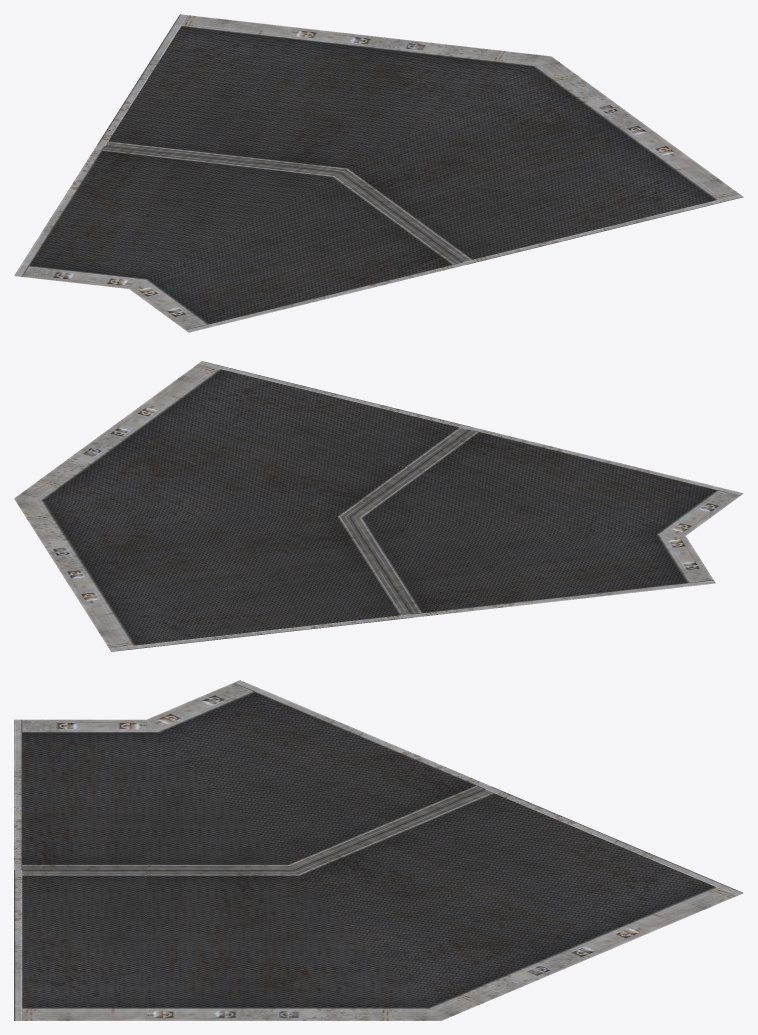
The model's file is Floor_A_5mts_06.fbx.
3 renders of one model, top to bottom at view 1: azimuth 30°, elevation 25°; view 2: azimuth 150°, elevation 25°; view 3: azimuth 270°, elevation 25°, orthographic. The views are drawn at different scales.
Visible parts, largest first — view 1: Floor_A_5mts_06; view 2: Floor_A_5mts_06; view 3: Floor_A_5mts_06.
Part boxes in pixels (x1=…): Floor_A_5mts_06: x1=14, y1=14, x2=743, y2=332; Floor_A_5mts_06: x1=14, y1=361, x2=743, y2=651; Floor_A_5mts_06: x1=14, y1=680, x2=743, y2=1020.
Bounding box in the file's own units: 566 × 4.95e-05 × 512.
Materials: 1 (1 with a texture image).
